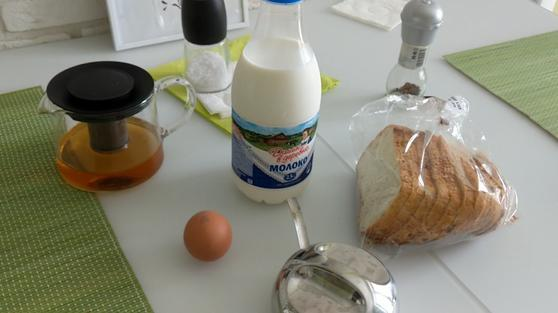egg: (181, 209, 232, 263)
milk: (230, 1, 321, 202)
white_bread: (352, 119, 507, 244)
